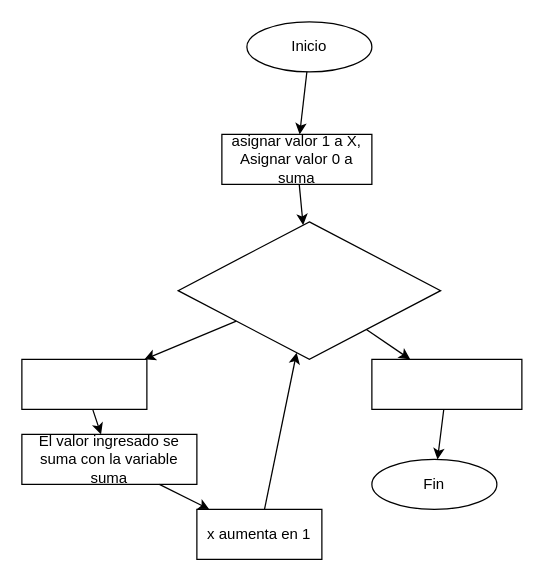
The diagram is 544 pixels wide and 581 high, and some of its shapes have lost their labels. Here are the shapes that lost their labels. From the top down, the centre of each, then its label:
At point (309, 290): "Mientras x se menor o igual a 5".
At point (84, 383): "Ingresar un valor".
At point (446, 383): "Mostrar suma".
